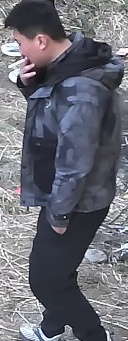smoking: (8, 1, 101, 107)
